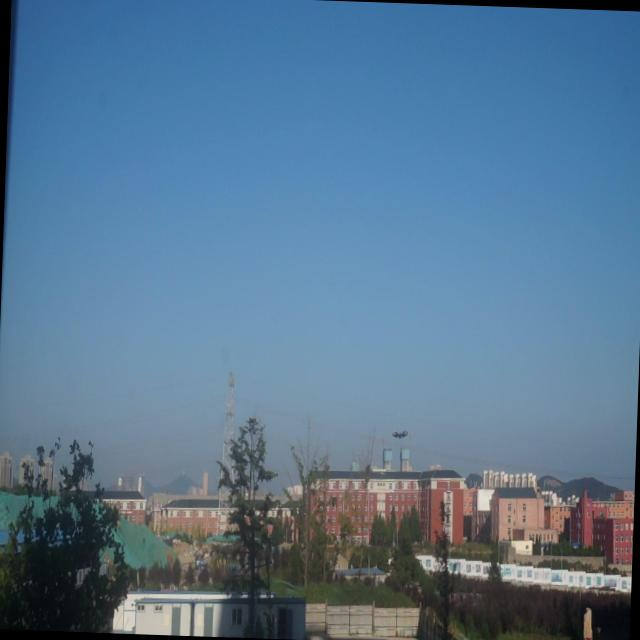drone: (389, 426, 412, 444)
